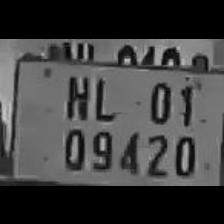0: (143, 74, 173, 124), (170, 128, 196, 178)
1: (174, 75, 196, 125)
2: (142, 128, 168, 178)
4: (116, 122, 142, 174)
9: (86, 122, 114, 172)
J: (91, 69, 115, 121)
N: (62, 68, 90, 120)
